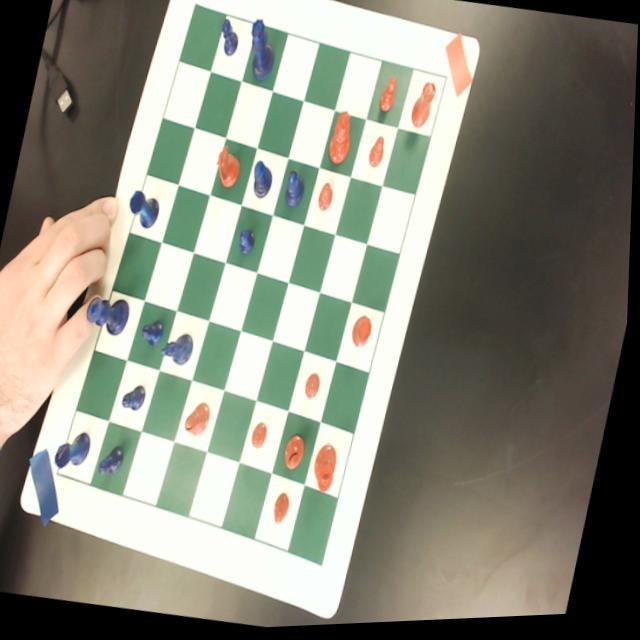B: (248, 160, 277, 202), (282, 170, 309, 211)
K: (85, 291, 134, 339)
N: (160, 330, 198, 368)
P: (215, 16, 243, 58), (99, 442, 128, 480), (120, 380, 151, 415), (139, 317, 167, 351), (235, 226, 259, 259)
Q: (240, 17, 282, 84)
R: (54, 427, 97, 472), (124, 186, 163, 230)
b: (184, 399, 215, 439), (283, 434, 310, 477)
k: (311, 443, 343, 497)
n: (212, 142, 246, 191)
p: (376, 76, 399, 118), (273, 491, 295, 528), (366, 135, 387, 172), (316, 182, 336, 214), (252, 421, 271, 452), (305, 372, 324, 401)
q: (326, 111, 356, 169)
r: (408, 82, 437, 132), (350, 315, 377, 352)
